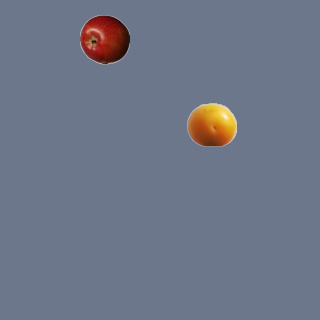Apple Braeburn: (79, 14, 129, 64)
Cherry Wax Yellow: (186, 99, 236, 149)
